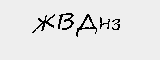В: (59, 10, 74, 32)
Д: (78, 12, 97, 37)
Ж: (29, 12, 55, 33)
З: (110, 15, 121, 32)
Н: (98, 15, 111, 31)
